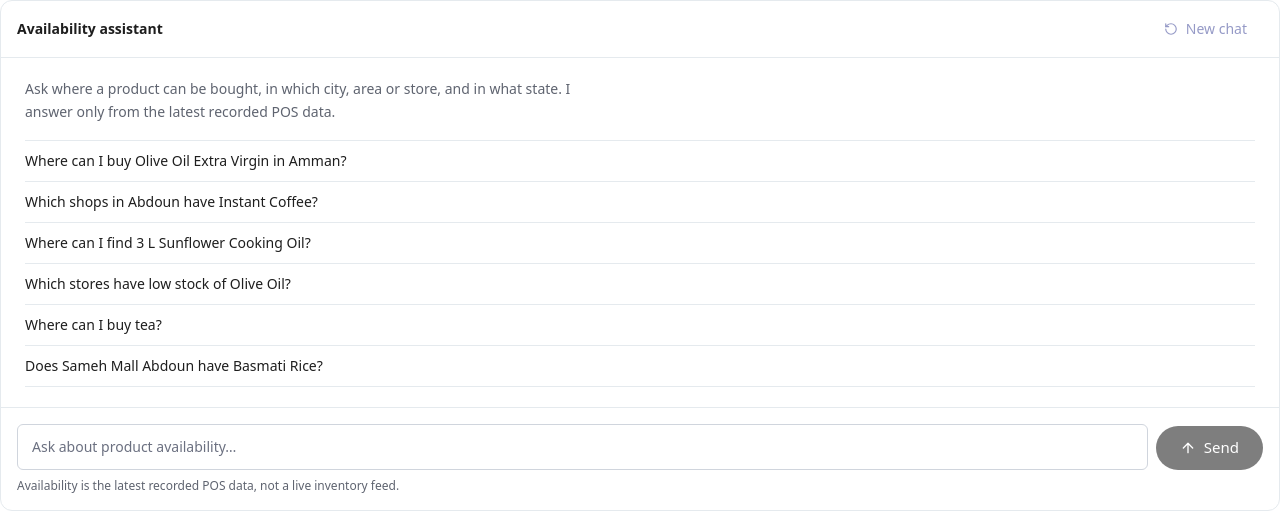
Test: ChatPanel streaming (English) › describes 0
The width and height of the screenshot is (1280, 528).
Type "Where is olive oil?" into the text box named "Your question" at {"x": 582, "y": 446}, box x1=17 y1=424 x2=1148 y2=470
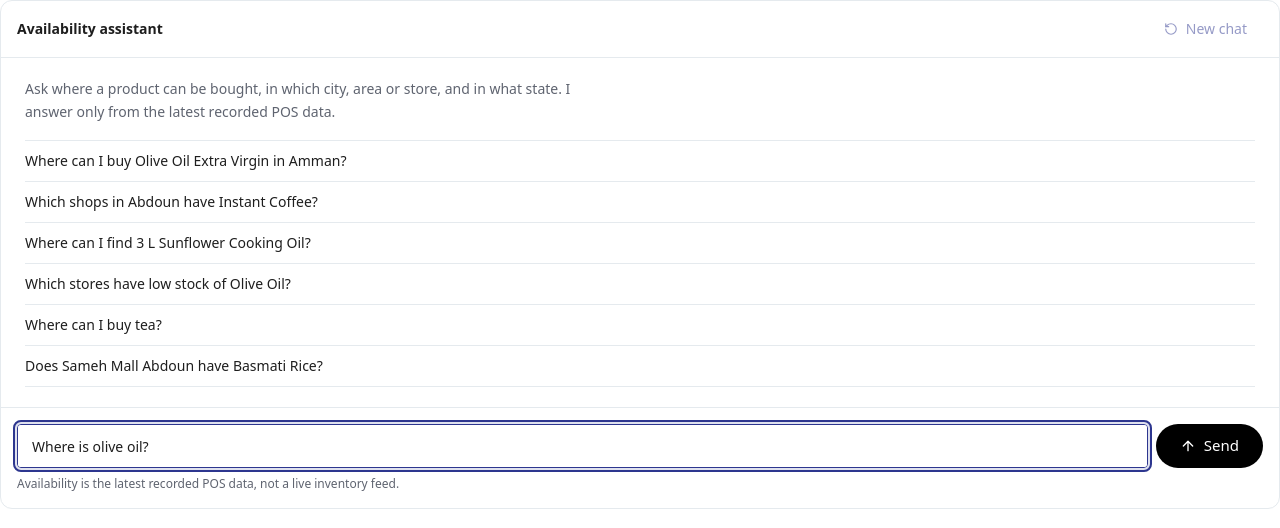
Press Enter
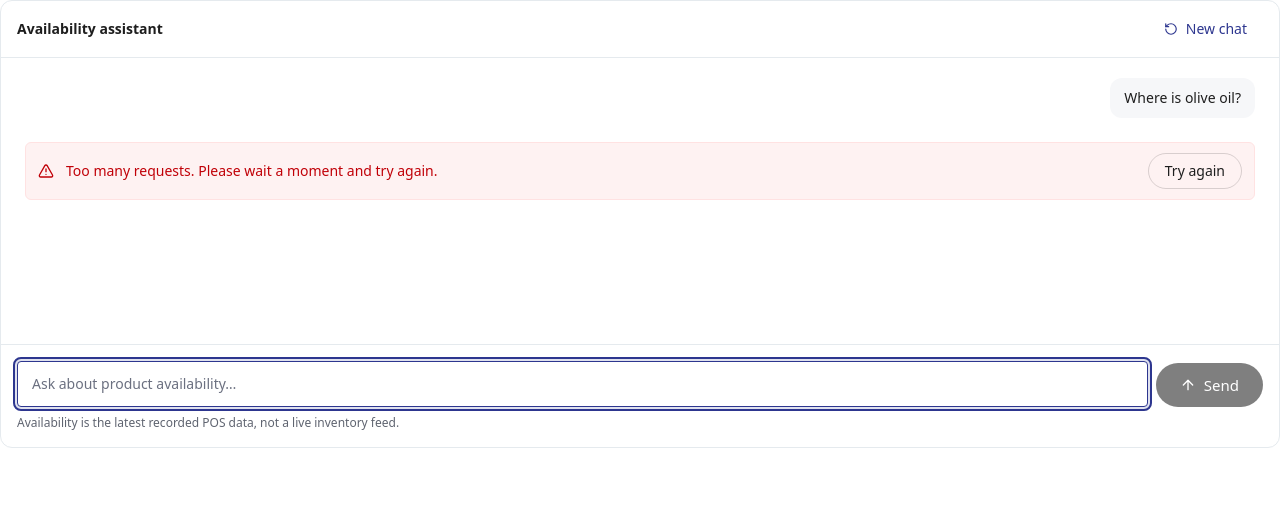
Expected: the text "Too many requests. Please wait a moment and try again." is shown, x1=66 y1=161 x2=438 y2=180
